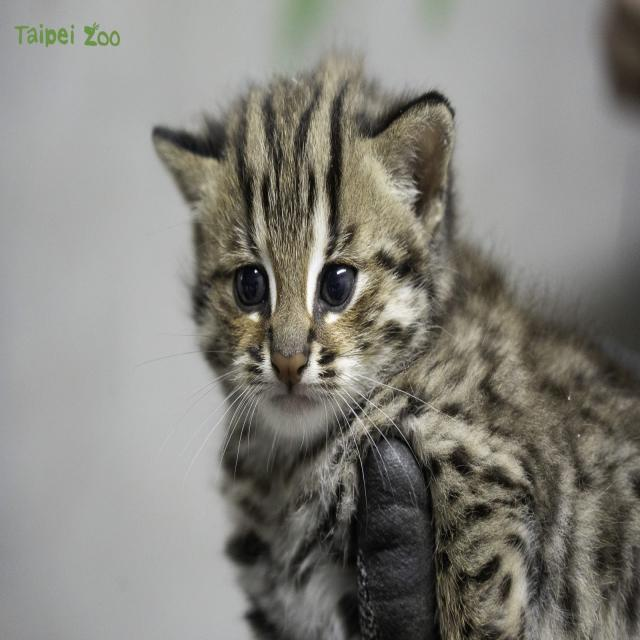leopard: (154, 62, 633, 640)
